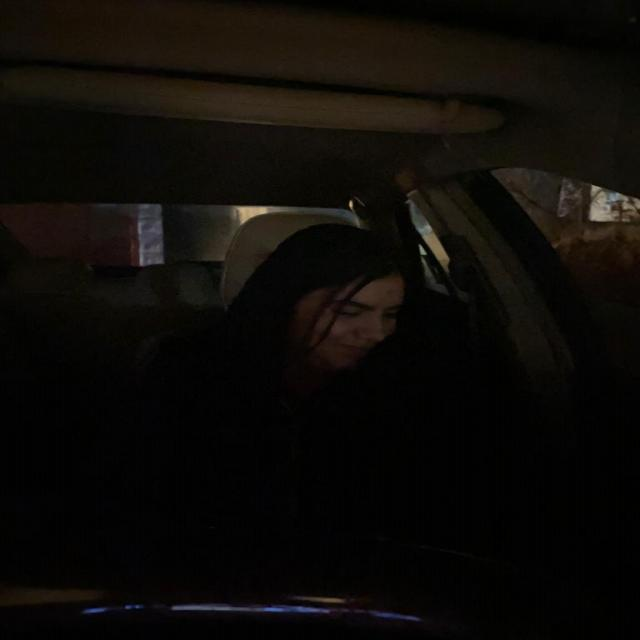drowsy: (274, 219, 426, 384)
